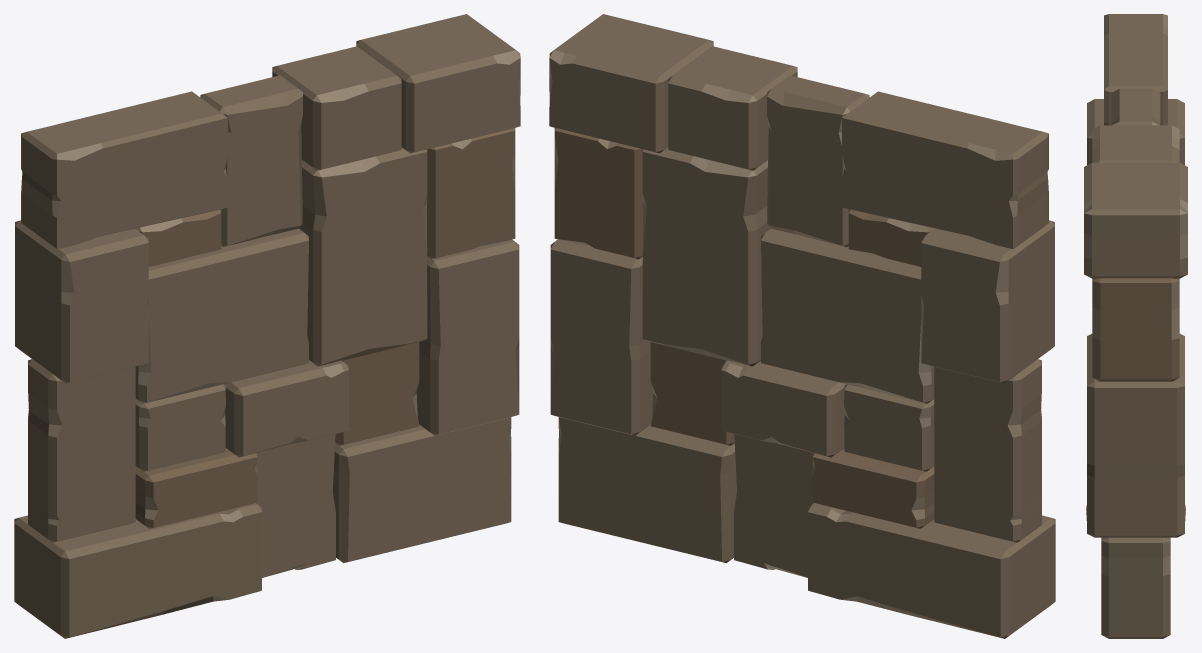
Rendered from brick_wall.glb.
3 renders of one model, left to right at view 1: azimuth 30°, elevation 25°; view 2: azimuth 150°, elevation 25°; view 3: azimuth 270°, elevation 25°, orthographic. The views are drawn at different scales.
Visible parts, largest first — view 1: Wall_Modular; view 2: Wall_Modular; view 3: Wall_Modular.
Part boxes in pixels (x1,y1,x2,y2): Wall_Modular: [14, 14, 520, 638]; Wall_Modular: [549, 14, 1055, 638]; Wall_Modular: [1084, 14, 1187, 638].
Size of the model in its own units: 2 by 2 by 0.4381.
